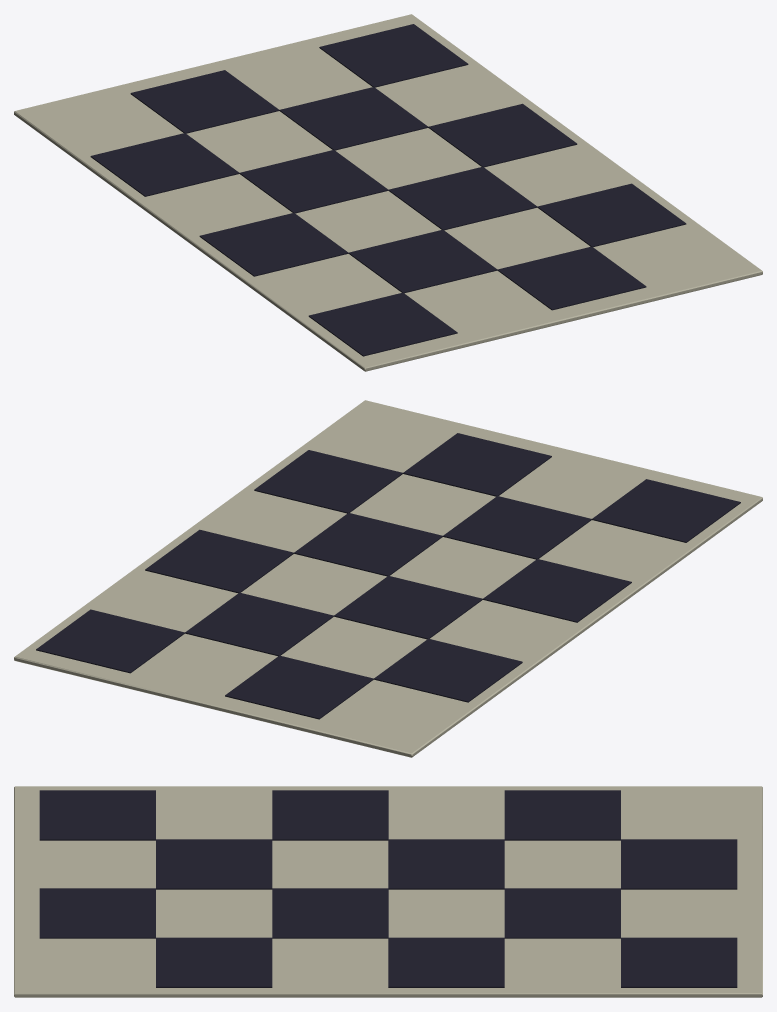
The model's file is rug_checkerboard.glb.
3 renders of one model, top to bottom at view 1: azimuth 30°, elevation 25°; view 2: azimuth 150°, elevation 25°; view 3: azimuth 270°, elevation 25°, orthographic. The views are drawn at different scales.
Visible parts, largest first — view 1: rug_checkerboard; view 2: rug_checkerboard; view 3: rug_checkerboard.
Part boxes in pixels (x1,y1,x2,y2): rug_checkerboard: [14, 14, 762, 371]; rug_checkerboard: [14, 400, 762, 757]; rug_checkerboard: [14, 786, 762, 997].
Size of the model in its own units: 1.9 by 0.025 by 2.9.
